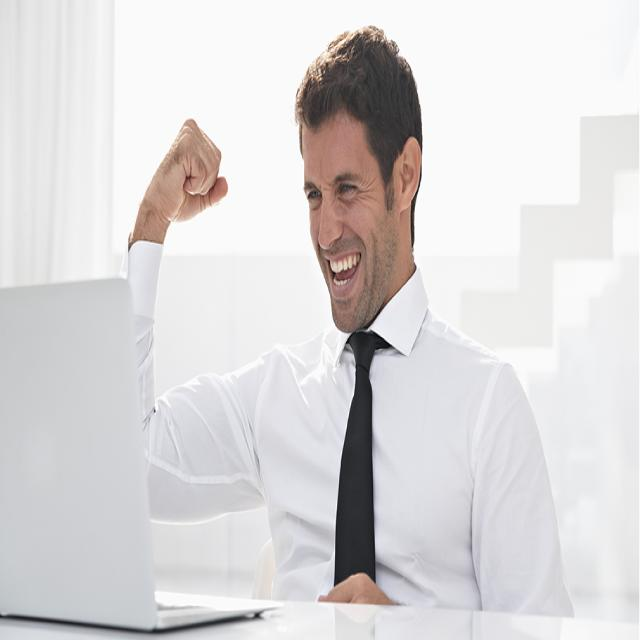mobile_phonerotation: (115, 6, 593, 610)
